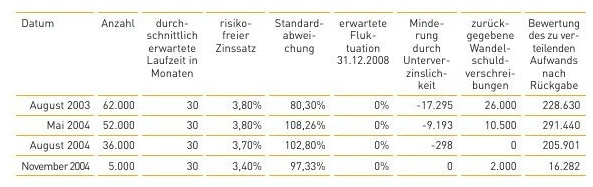table: (0, 0, 593, 187)
